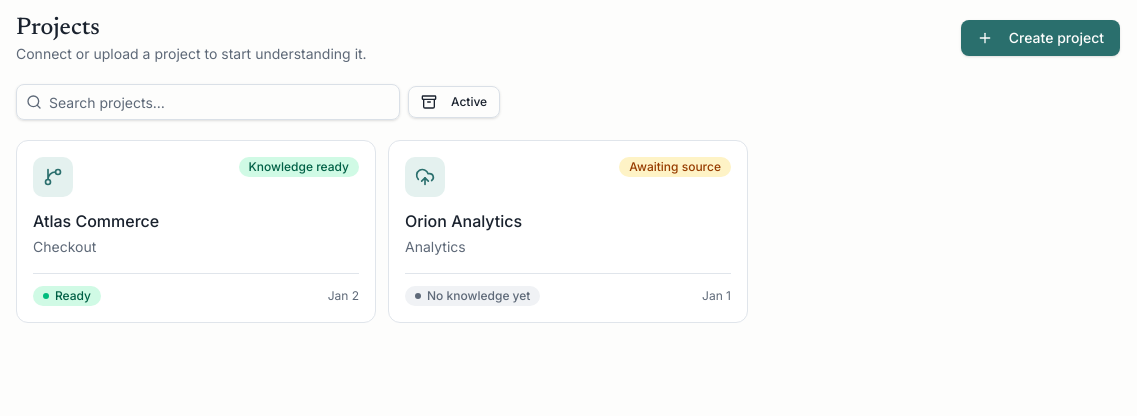
Test: ProjectsPage › toggles archived and shows empty when none returned
This screenshot has width=1137, height=416.
Expected: the heading "Atlas Commerce" is shown, x1=33 y1=211 x2=159 y2=231
Click the button "Active": (454, 102) x1=408 y1=86 x2=500 y2=118
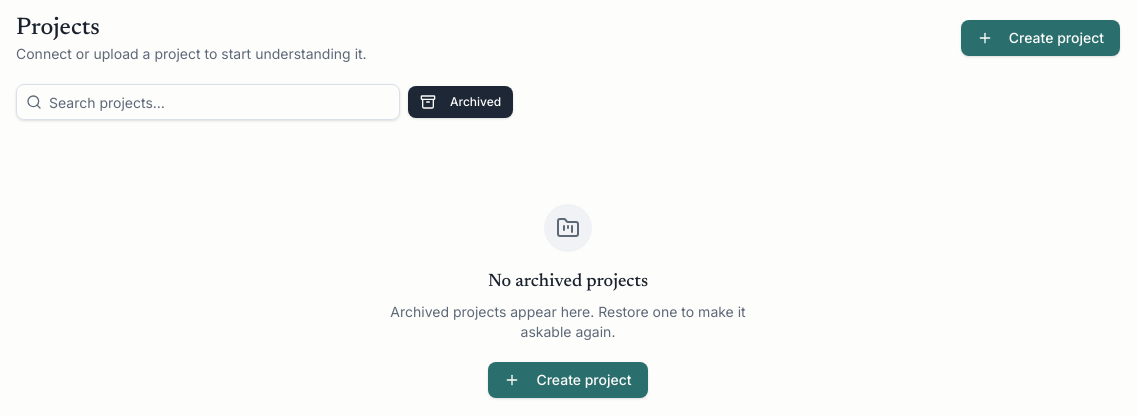
Expected: the heading "No archived projects" is shown, x1=488 y1=268 x2=648 y2=296
